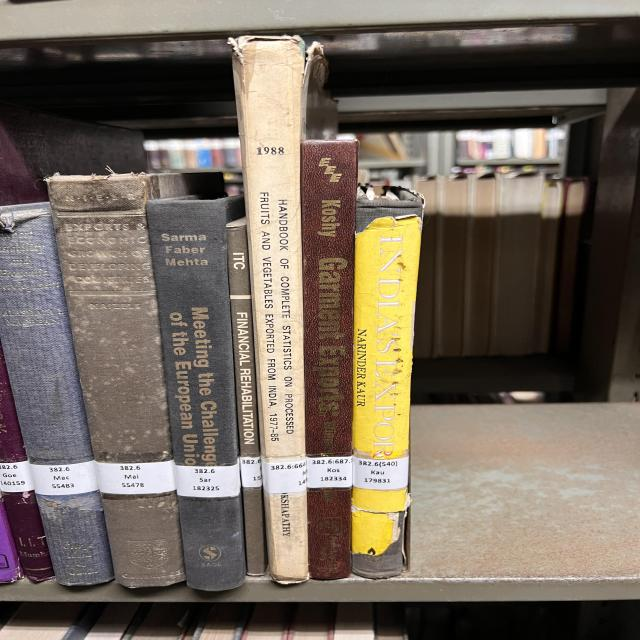Book: (47, 174, 188, 588), (228, 36, 308, 584), (147, 196, 245, 590), (352, 186, 422, 579), (300, 139, 358, 579), (227, 219, 267, 575)
Label: (95, 460, 175, 495), (30, 461, 98, 495), (175, 464, 240, 498), (352, 456, 408, 490), (262, 459, 307, 494), (307, 456, 352, 489), (240, 456, 262, 488)
